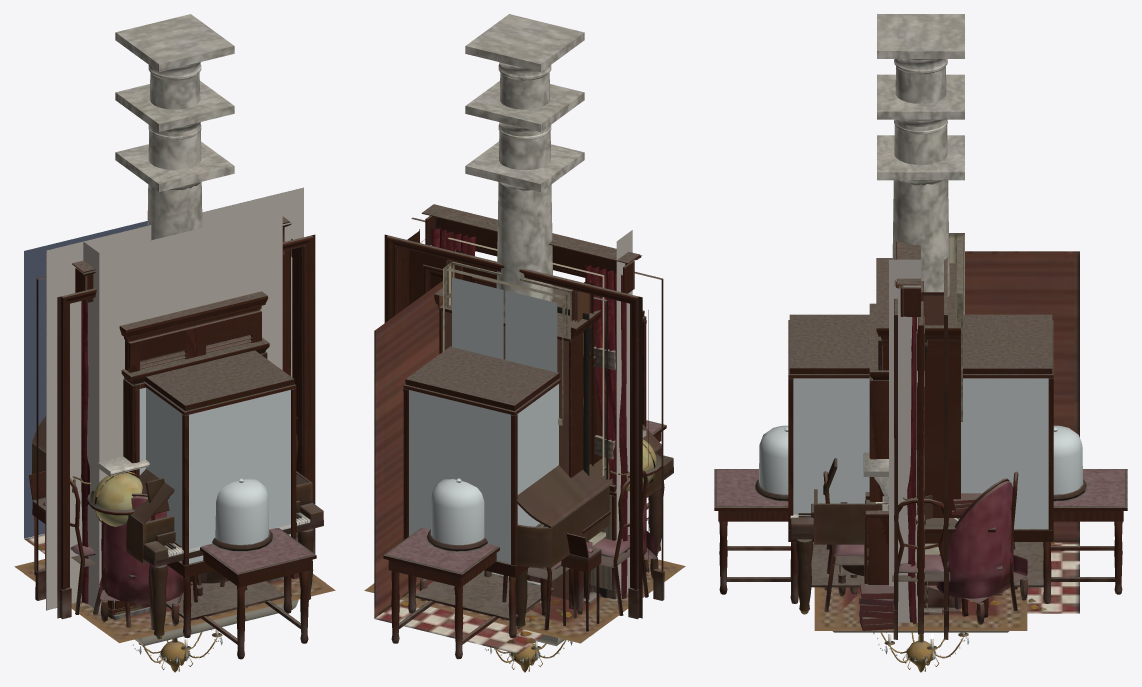
File: tile.glb
3 renders of one model, left to right at view 1: azimuth 30°, elevation 25°; view 2: azimuth 150°, elevation 25°; view 3: azimuth 270°, elevation 25°, orthographic.
Visible parts, largest first — view 1: Solid_vitrine_double, Mod_fireplace_tile, Mod_niche_tile, Door_frame_tile, Col_column_tile_H450, Solid_display_bench, Isl_grand_piano, Isl_parlour, Exit_tile_p1, Isl_reading, Band_doll_cabinet, Col_column_tile_H400 (+10 smaller); view 2: Solid_vitrine_double, Exit_tile_p0, Col_column_tile_H450, Win_tall_curtain, Door_frame_tile, Solid_display_bench, Isl_grand_piano, Win_tall_glass, Ward_body_tile, Isl_parlour, Col_column_tile_H400, Isl_dining (+9 smaller); view 3: Solid_vitrine_double, Exit_tile_p0, Col_column_tile_H450, Solid_display_bench, Isl_parlour, Ward_body_tile, Mod_fireplace_tile, Isl_grand_piano, Isl_reading, Win_tall_curtain, Isl_dining, Col_column_tile_H400 (+7 smaller).
Boxes of the visible parts, bbox=[...] form: Solid_vitrine_double: bbox=[140, 350, 296, 638]; Mod_fireplace_tile: bbox=[83, 208, 283, 619]; Mod_niche_tile: bbox=[46, 187, 303, 610]; Door_frame_tile: bbox=[35, 234, 315, 619]; Col_column_tile_H450: bbox=[115, 14, 234, 240]; Solid_display_bench: bbox=[200, 478, 316, 659]; Isl_grand_piano: bbox=[32, 416, 323, 639]; Isl_parlour: bbox=[14, 471, 335, 642]; Exit_tile_p1: bbox=[24, 221, 147, 538]; Isl_reading: bbox=[24, 472, 325, 635]; Band_doll_cabinet: bbox=[121, 337, 269, 610]; Col_column_tile_H400: bbox=[115, 81, 234, 139]; Solid_vitrine_double: bbox=[403, 310, 646, 638]; Exit_tile_p0: bbox=[374, 281, 607, 653]; Col_column_tile_H450: bbox=[465, 14, 584, 602]; Win_tall_curtain: bbox=[421, 204, 642, 598]; Door_frame_tile: bbox=[384, 217, 664, 619]; Solid_display_bench: bbox=[383, 420, 666, 659]; Isl_grand_piano: bbox=[516, 424, 673, 629]; Win_tall_glass: bbox=[452, 277, 557, 372]; Ward_body_tile: bbox=[434, 285, 600, 608]; Isl_parlour: bbox=[364, 487, 685, 643]; Col_column_tile_H400: bbox=[465, 80, 584, 603]; Isl_dining: bbox=[453, 471, 648, 630]; Solid_vitrine_double: bbox=[788, 314, 1053, 603]; Exit_tile_p0: bbox=[924, 251, 1079, 614]; Col_column_tile_H450: bbox=[877, 14, 964, 296]; Solid_display_bench: bbox=[714, 425, 1127, 594]; Isl_parlour: bbox=[814, 478, 1028, 630]; Ward_body_tile: bbox=[876, 258, 960, 612]; Mod_fireplace_tile: bbox=[863, 259, 920, 622]; Isl_grand_piano: bbox=[790, 458, 932, 614]; Isl_reading: bbox=[834, 493, 1007, 630]; Win_tall_curtain: bbox=[894, 239, 943, 624]; Isl_dining: bbox=[823, 471, 1018, 631]; Col_column_tile_H400: bbox=[877, 74, 964, 134].
Bounding box in the file's own units: 2.25 × 5.29 × 3.09.
34 materials, 30 textured.
